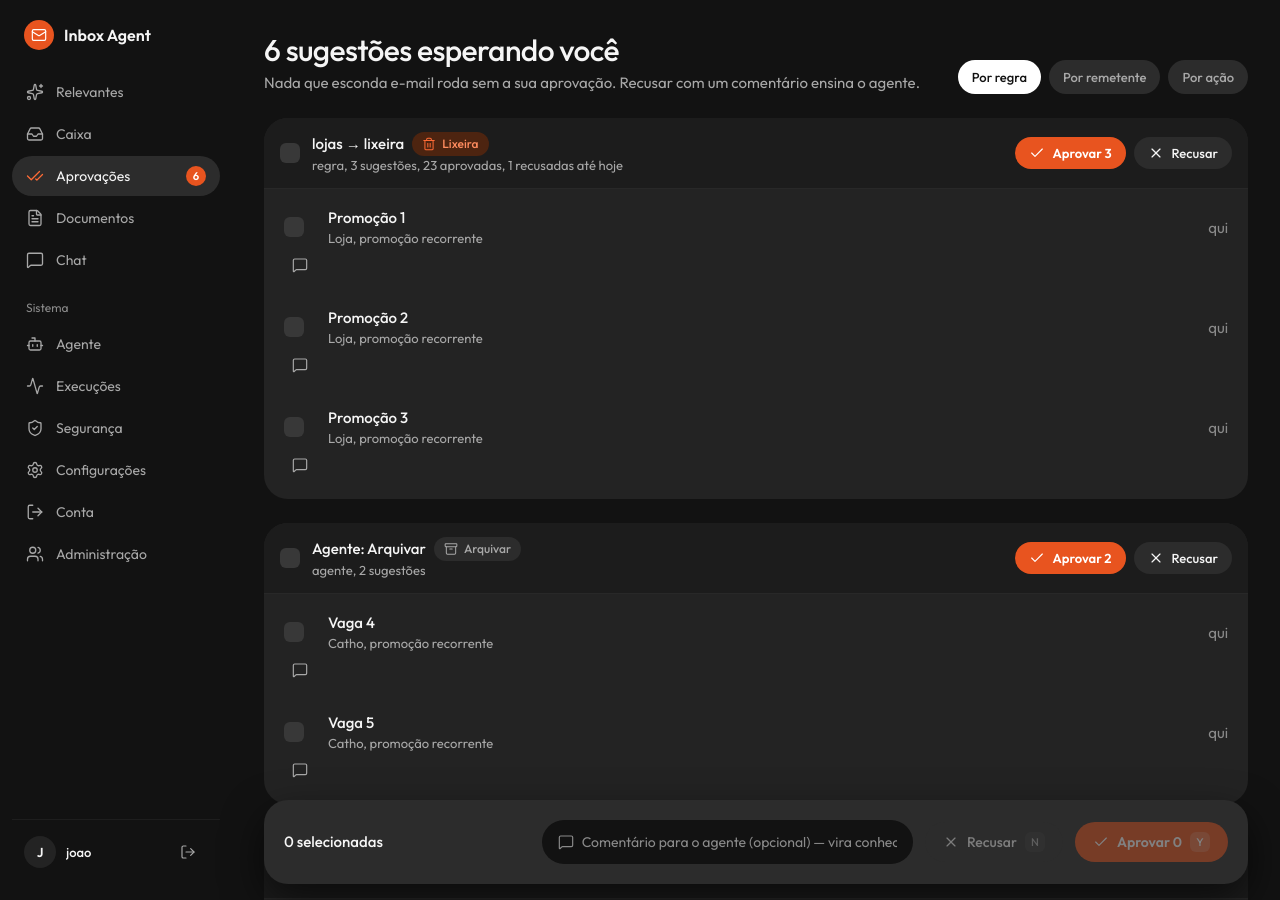
Test case: fewer_decided_than_sent_reports_the_real_number_and_reloads
The width and height of the screenshot is (1280, 900).
Click the checkbox that starts with "lojas → lixeira": (452, 153) [280, 132, 623, 174]
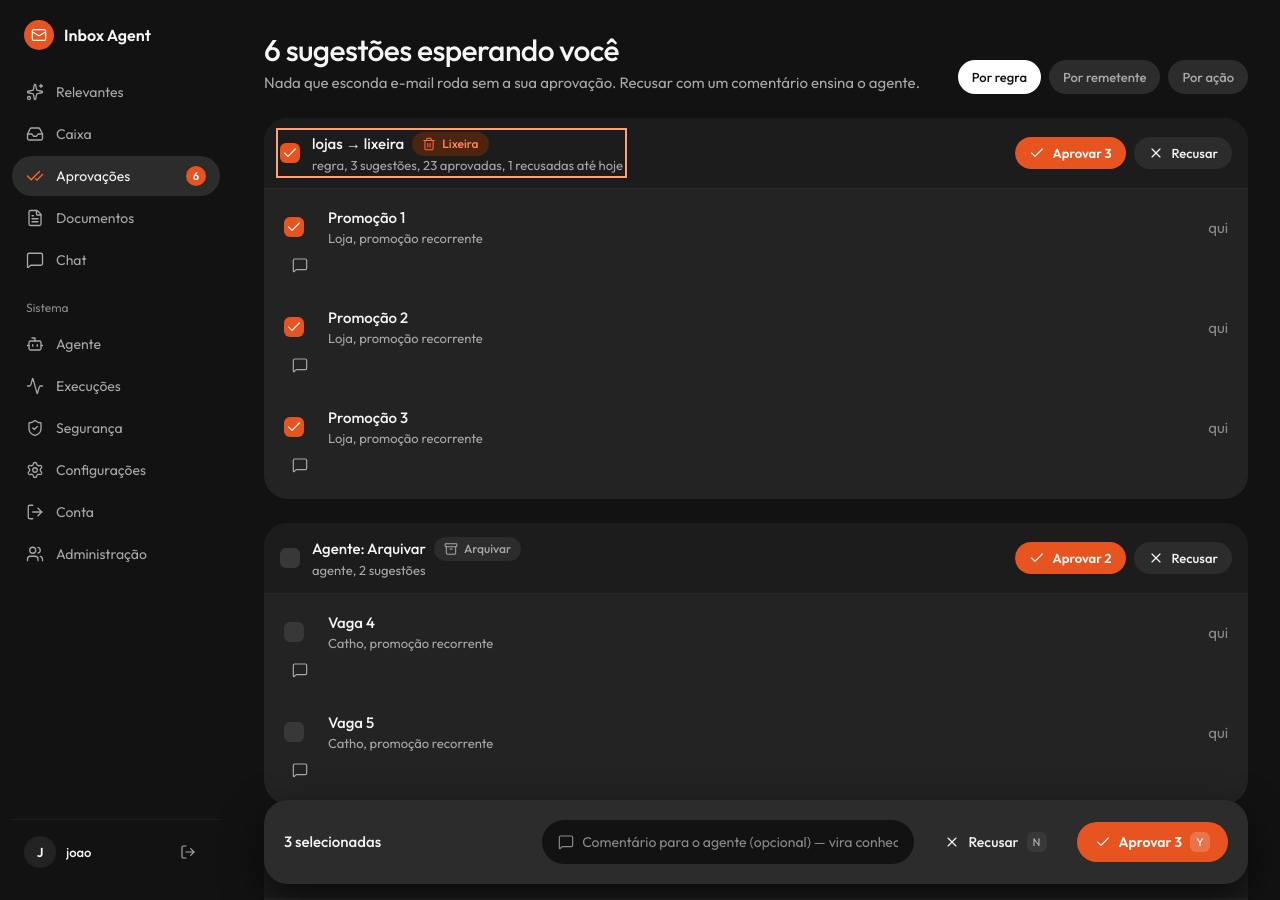
Click the button "Aprovar 3 Y": (1152, 842) [1076, 822, 1228, 862]
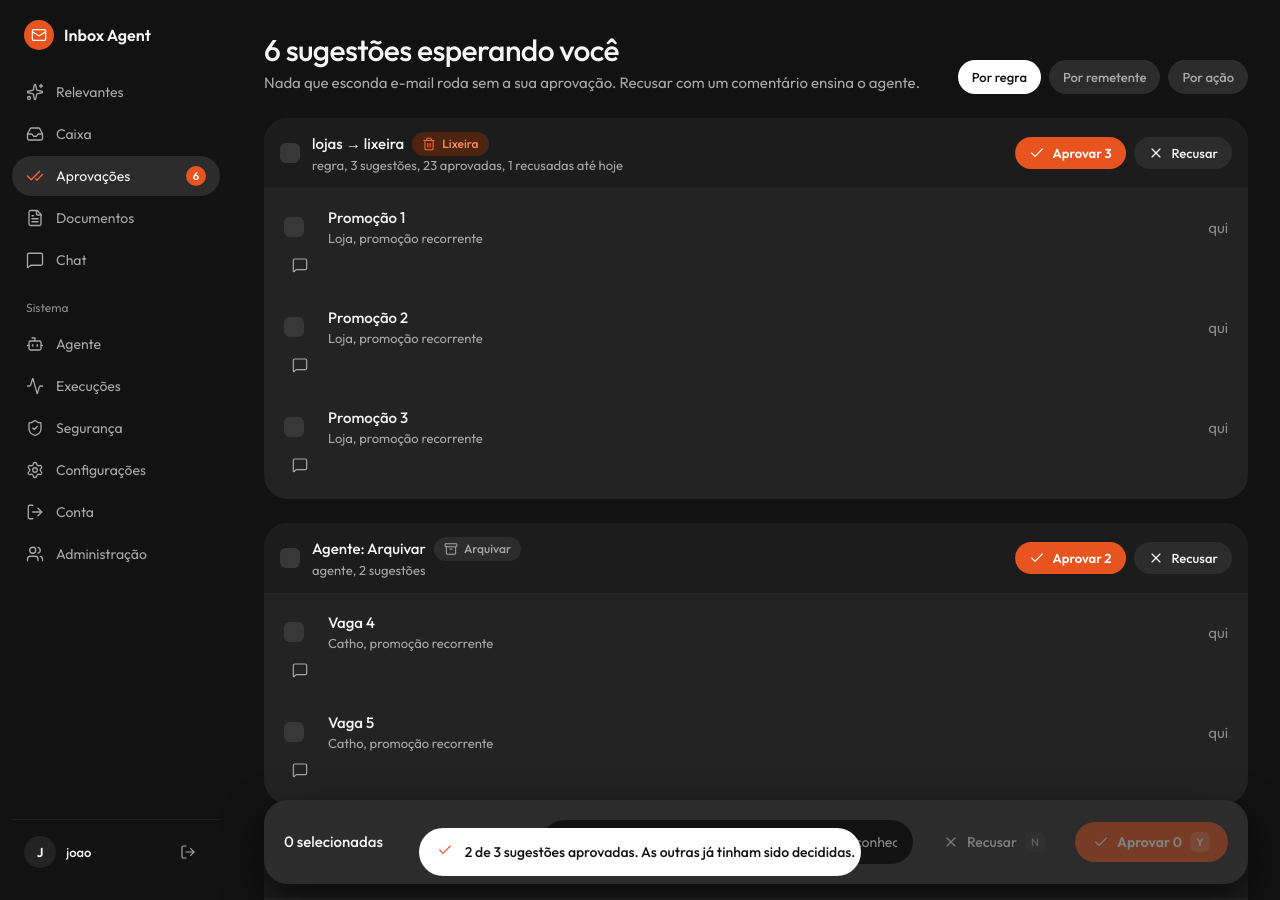
Now the text "2 de 3 sugestões aprovadas. As outras já tinham sido decididas." is shown, box [465, 843, 855, 861]
Now the text "0 selecionadas" is shown, box [284, 832, 383, 851]
